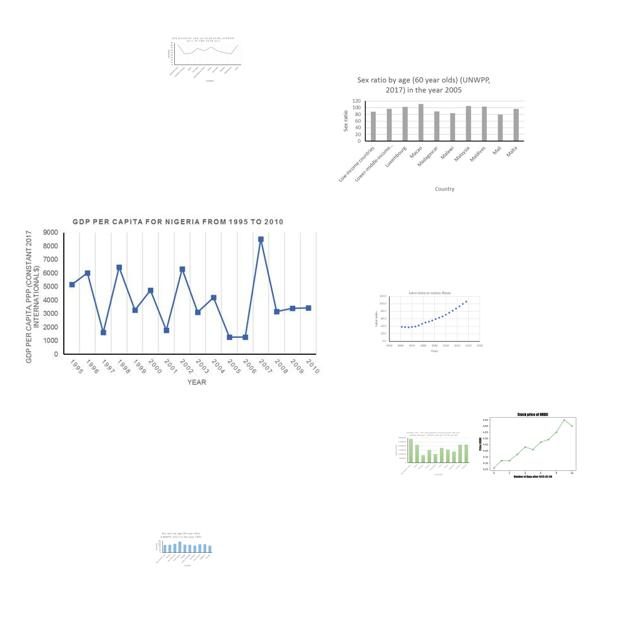Graph: (22, 215, 322, 388), (336, 70, 528, 196), (476, 402, 587, 485), (374, 290, 484, 353), (165, 36, 242, 82), (395, 431, 471, 476), (154, 531, 213, 568)
